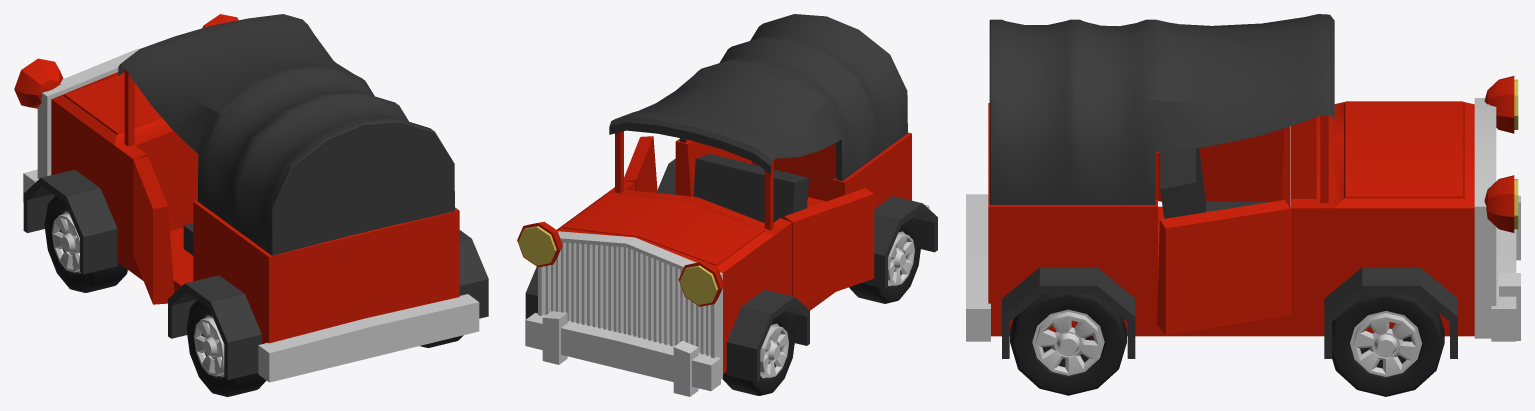
The model's file is car4.dae.
The picture shows the model from 3 angles, left to right: view 1: azimuth 30°, elevation 25°; view 2: azimuth 150°, elevation 25°; view 3: azimuth 270°, elevation 25°; orthographic projection. The views are drawn at different scales.
Visible parts, largest first — view 1: Cube_009, Cylinder_014, Cylinder_012; view 2: Cube_009, Cylinder_014, Cylinder_012; view 3: Cube_009, Cylinder_015, Cylinder_004.
Boxes of the visible parts, box(x1,y1,x2,y2) form: Cube_009: box(14, 14, 488, 382); Cylinder_014: box(44, 196, 127, 292); Cylinder_012: box(186, 300, 266, 396); Cube_009: box(517, 14, 937, 396); Cylinder_014: box(722, 310, 795, 395); Cylinder_012: box(849, 218, 921, 303); Cube_009: box(966, 14, 1520, 358); Cylinder_015: box(1332, 294, 1444, 396); Cylinder_004: box(1010, 294, 1126, 395).
Size of the model in its own units: 4.25 by 6.92 by 4.13.
